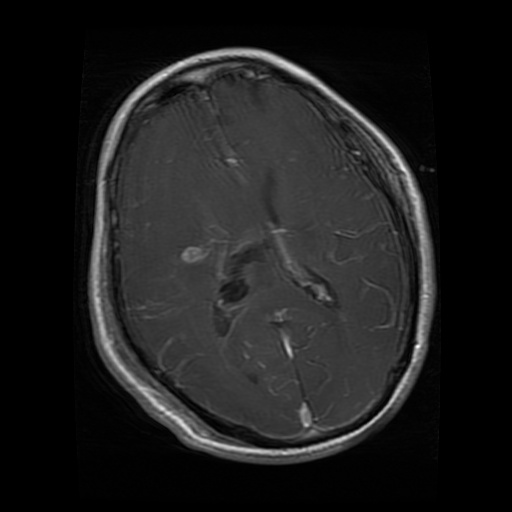glioma: (215, 242, 268, 338)
